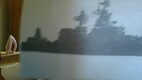tau_muctieu: (20, 2, 142, 57)
